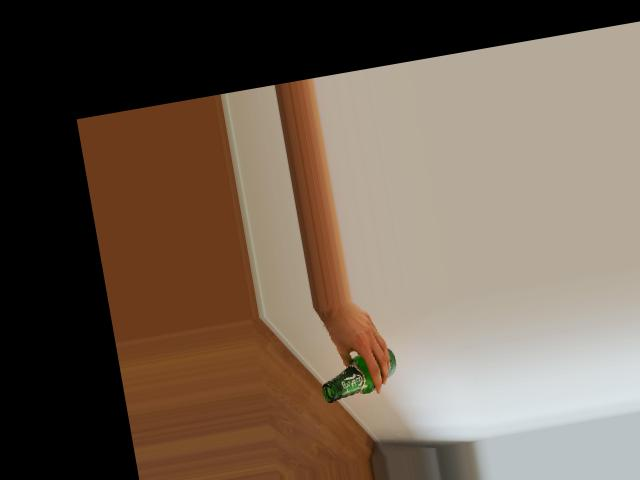beer: (316, 348, 400, 403)
